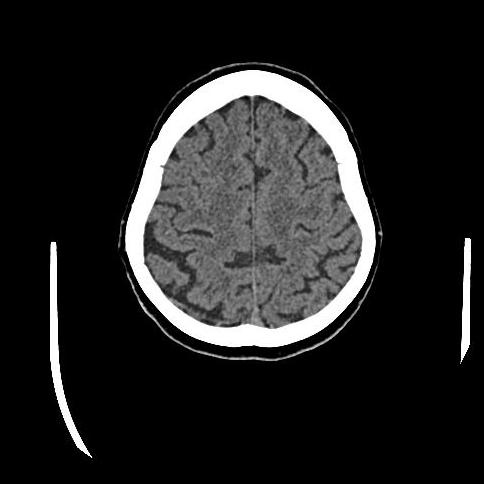Normal_Brain: (119, 62, 380, 371)
